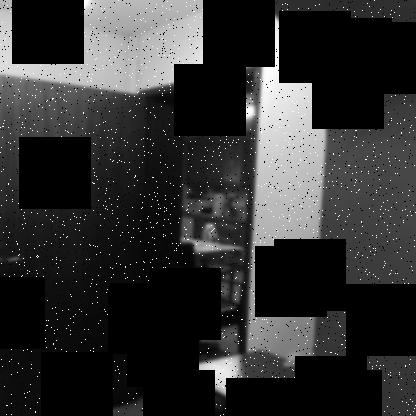Porte: (0, 61, 263, 415)
